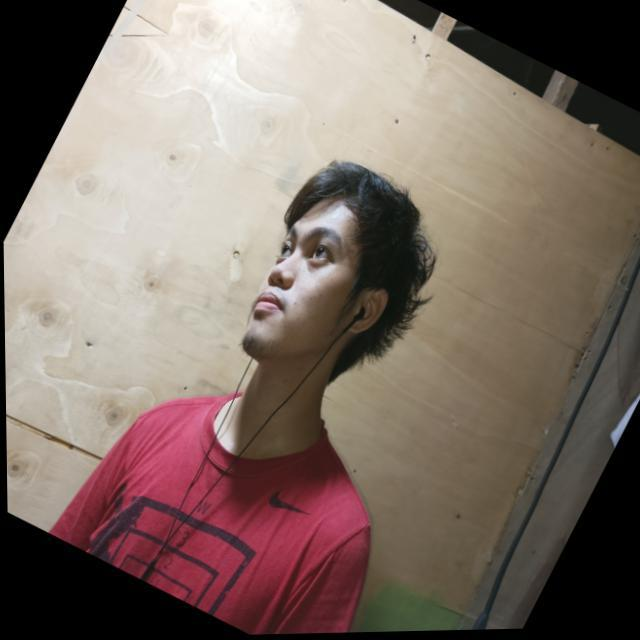Nonhelmet: (237, 158, 437, 383)
